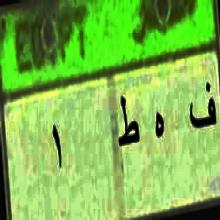1: (49, 116, 65, 178)
Taa: (115, 89, 139, 156)
faa: (186, 74, 219, 132)
haa: (150, 105, 168, 149)
